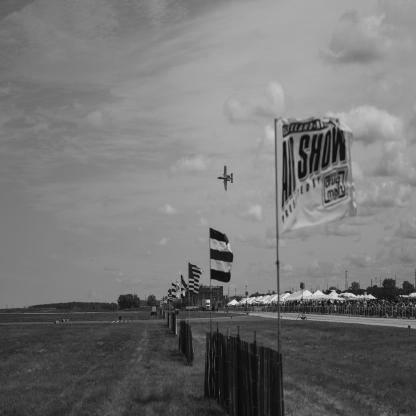A10: (218, 166, 234, 192)
